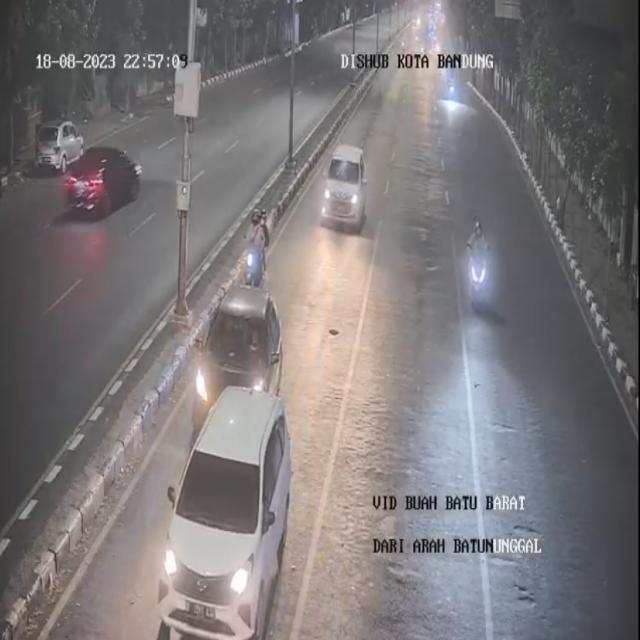cars: (157, 386, 291, 639), (192, 284, 283, 440), (321, 143, 368, 232)
motorcycle: (462, 219, 497, 319), (241, 207, 274, 296)
